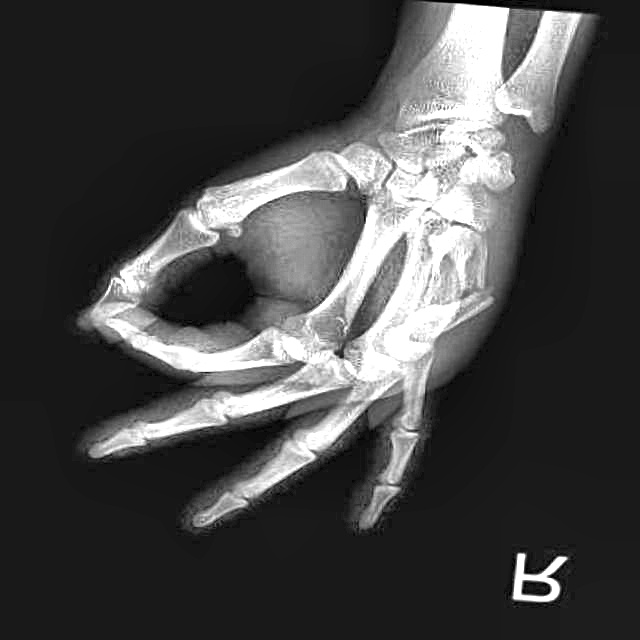Oblique: (390, 235, 511, 353)
